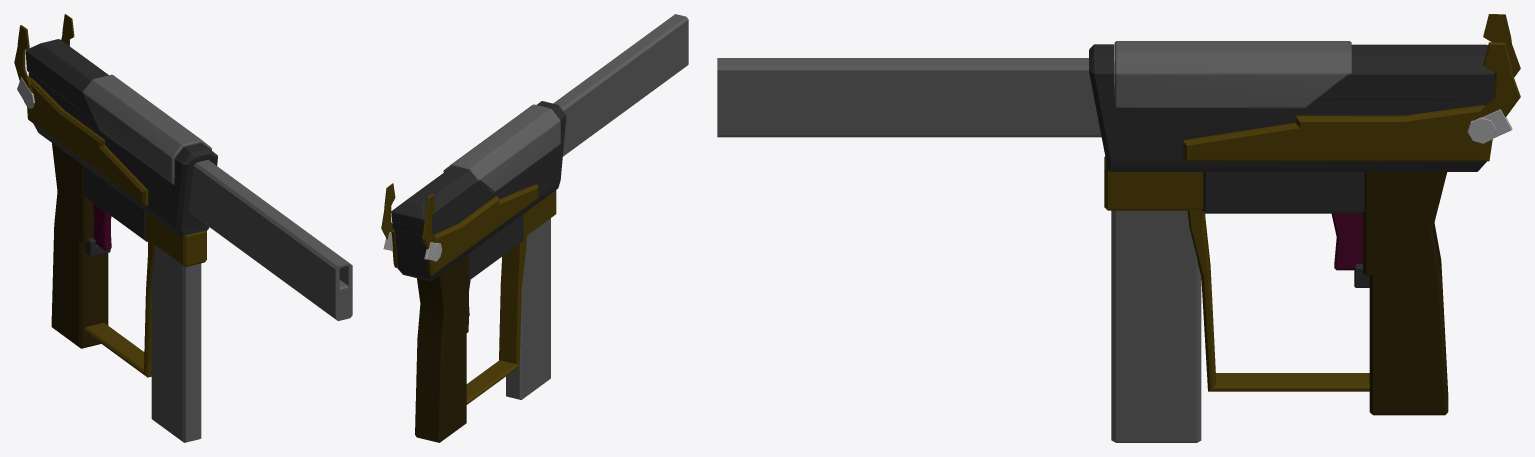
Rendered from Pistolet-17.fbx.
3 views of the same model, side by side, from view 1: azimuth 30°, elevation 25°; view 2: azimuth 150°, elevation 25°; view 3: azimuth 270°, elevation 25° (orthographic). The views are drawn at different scales.
Visible parts, largest first — view 1: Body, Barrel, Magazine, Handle, Slide, RightDecal, Triggerpiece, Catch, Trigger; view 2: Body, Handle, Barrel, Magazine, Slide, RightDecal, Triggerpiece, Catch, Joint; view 3: Body, Barrel, Magazine, Handle, Slide, LeftDecal, Triggerpiece, Catch, Trigger, Joint.
Boxes of the visible parts, left/top/right/bottom form: Body: left=25, top=39, right=217, bottom=377; Barrel: left=188, top=159, right=352, bottom=320; Magazine: left=151, top=245, right=201, bottom=442; Handle: left=51, top=143, right=110, bottom=348; Slide: left=83, top=74, right=211, bottom=184; RightDecal: left=27, top=76, right=148, bottom=205; Triggerpiece: left=83, top=166, right=148, bottom=256; Catch: left=14, top=14, right=74, bottom=93; Trigger: left=93, top=203, right=111, bottom=250; Body: left=391, top=101, right=566, bottom=404; Handle: left=415, top=254, right=468, bottom=442; Barrel: left=553, top=14, right=688, bottom=156; Magazine: left=506, top=218, right=550, bottom=399; Slide: left=443, top=104, right=560, bottom=192; RightDecal: left=427, top=184, right=538, bottom=275; Triggerpiece: left=466, top=214, right=523, bottom=332; Catch: left=381, top=183, right=439, bottom=249; Joint: left=383, top=232, right=442, bottom=261; Body: left=1089, top=44, right=1494, bottom=391; Barrel: left=717, top=58, right=1114, bottom=137; Magazine: left=1111, top=210, right=1201, bottom=442; Handle: left=1363, top=172, right=1448, bottom=415; Slide: left=1114, top=41, right=1351, bottom=108; LeftDecal: left=1183, top=105, right=1492, bottom=161; Triggerpiece: left=1202, top=172, right=1369, bottom=287; Catch: left=1472, top=14, right=1520, bottom=120; Trigger: left=1331, top=213, right=1362, bottom=270; Joint: left=1467, top=109, right=1512, bottom=143.
Bounding box in the file's own units: 5.15 × 31.97 × 56.84.
